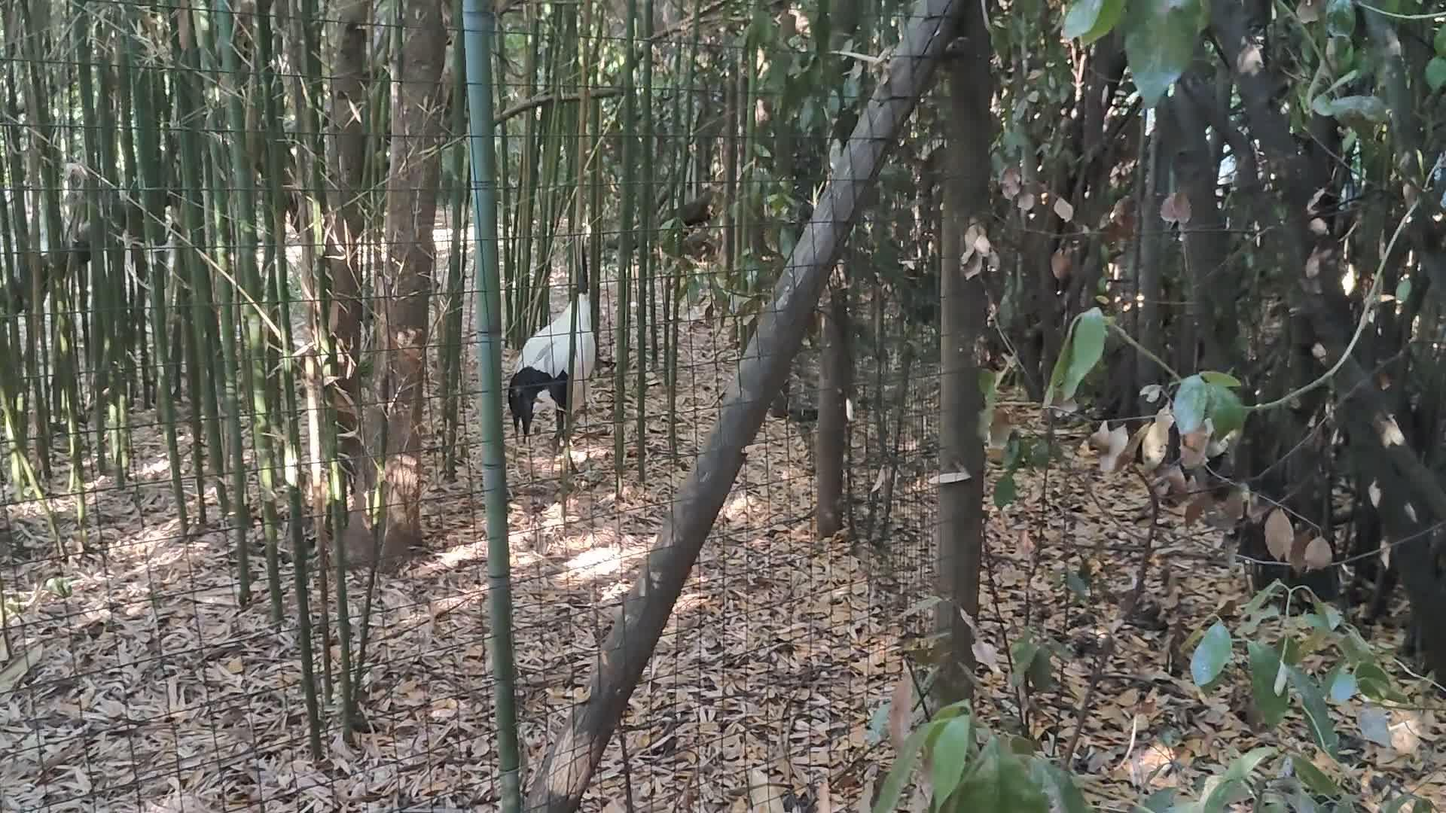apple: (508, 224, 595, 477)
